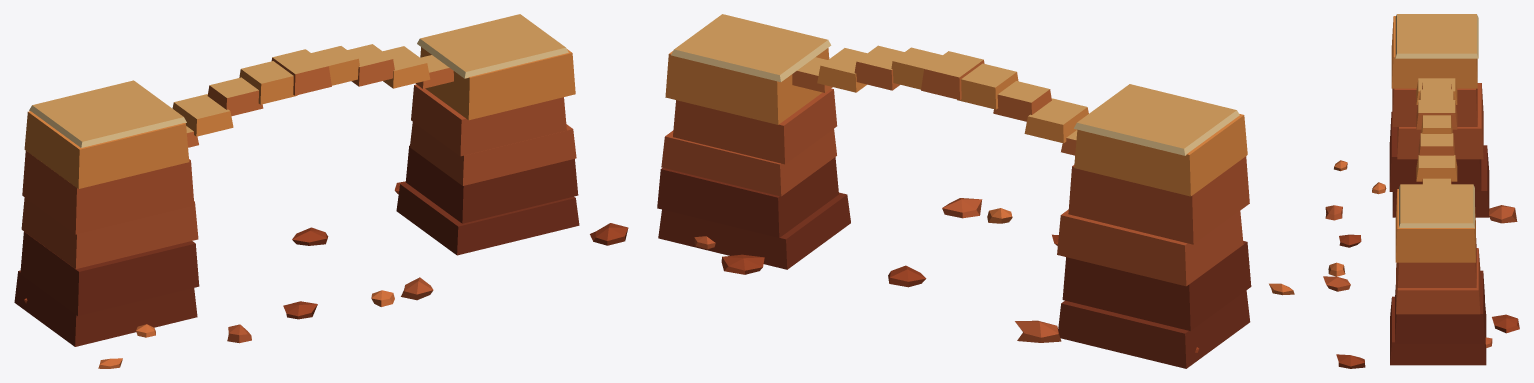
The model's file is W5_Mid_RockBridge.fbx.
3 views of the same model, side by side, from view 1: azimuth 30°, elevation 25°; view 2: azimuth 150°, elevation 25°; view 3: azimuth 270°, elevation 25° (orthographic). The views are drawn at different scales.
Parts seen in each view (by area): view 1: W5_Mid_RockBridge; view 2: W5_Mid_RockBridge; view 3: W5_Mid_RockBridge.
Part boxes in pixels (x1,y1,x2,y2): W5_Mid_RockBridge: (14,14,628,368); W5_Mid_RockBridge: (657,14,1294,368); W5_Mid_RockBridge: (1323,14,1519,368).
Bounding box in the file's own units: 123 × 44.4 × 48.98.
